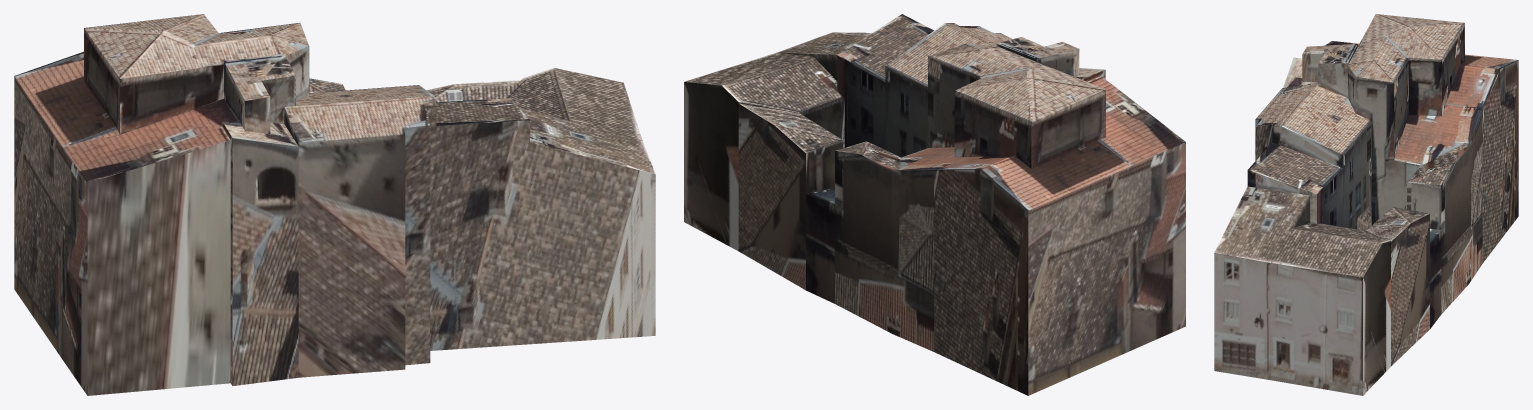
The picture shows the model from 3 angles, left to right: view 1: azimuth 30°, elevation 25°; view 2: azimuth 150°, elevation 25°; view 3: azimuth 270°, elevation 25°; orthographic projection. The views are drawn at different scales.
Visible parts, largest first — view 1: Z_UP; view 2: Z_UP; view 3: Z_UP.
Boxes of the visible parts, x1,y1,x2,y2 form: Z_UP: [14, 14, 655, 395]; Z_UP: [684, 14, 1185, 395]; Z_UP: [1214, 14, 1518, 395].
Bounding box in the file's own units: 36.7 × 18.54 × 23.72.
Materials: 2 (1 with a texture image).
